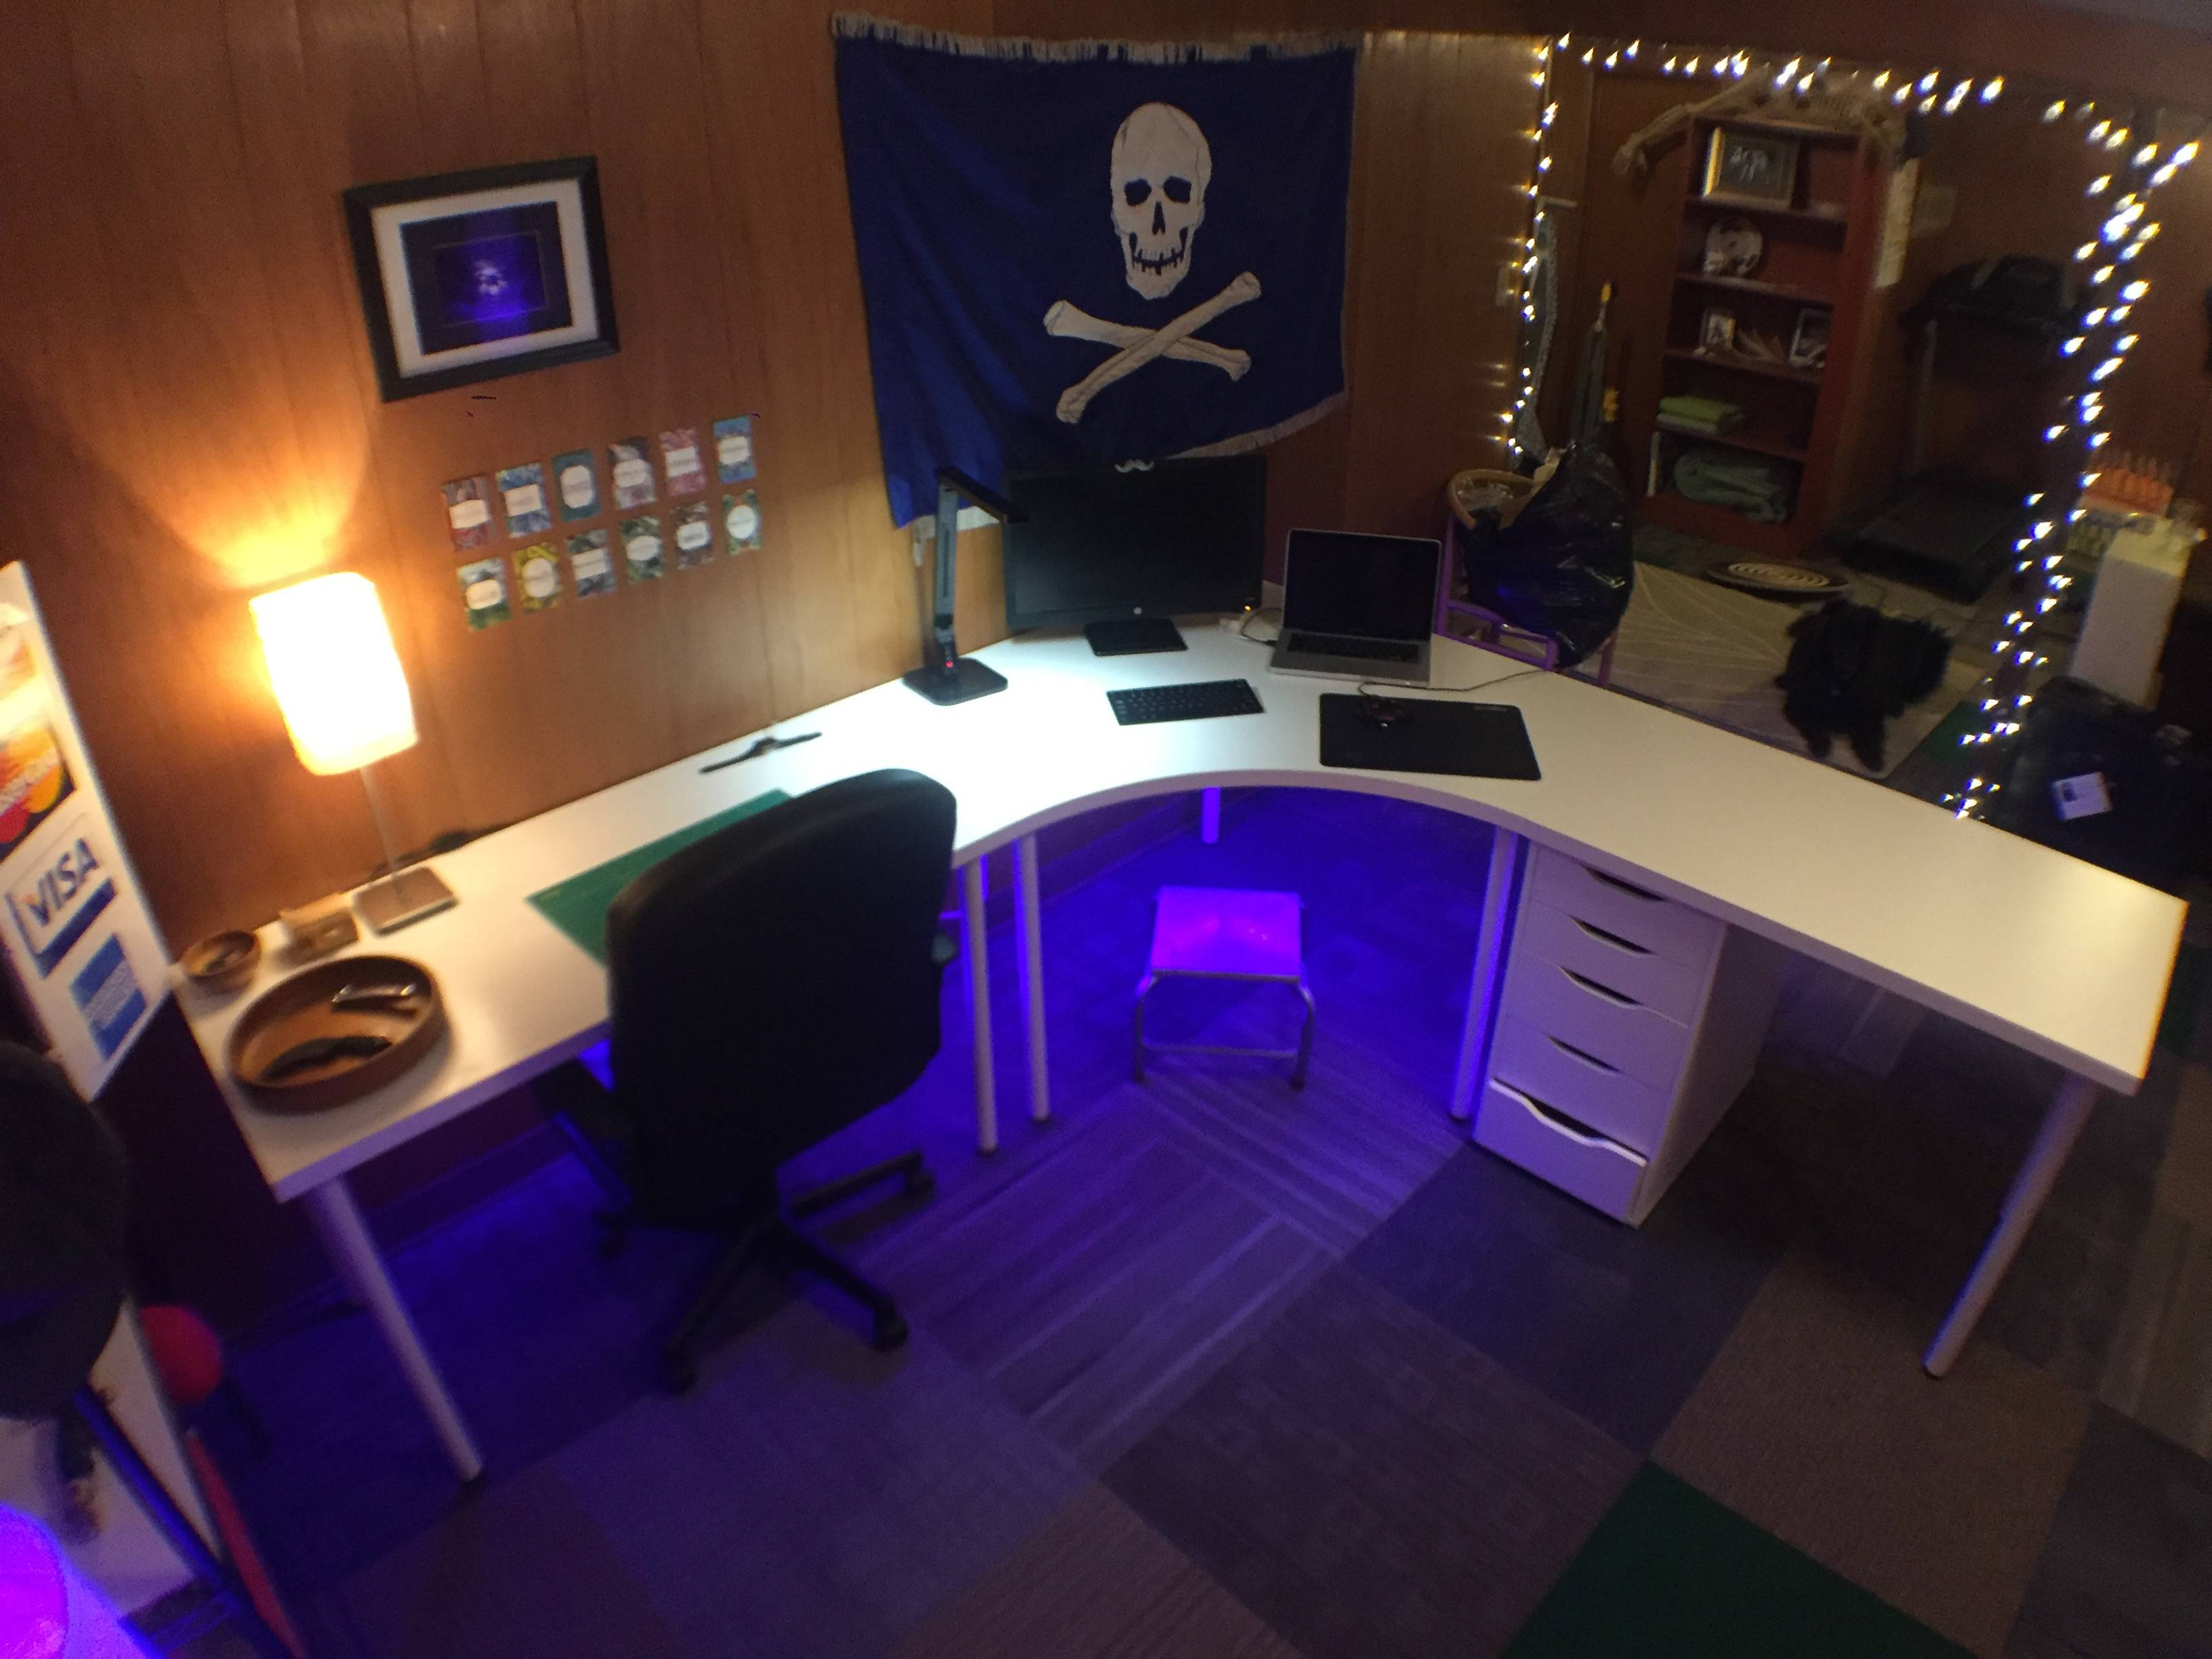Chair (Generic): (587, 765, 960, 1392)
Desk (Generic): (174, 605, 2212, 1208)
Footrest: (1116, 885, 1320, 1098)
Keyboard (Generic): (1103, 676, 1266, 727)
Lamp (Desk): (251, 570, 469, 915), (899, 457, 1028, 716)
Laptop (OSX): (1271, 528, 1449, 678)
Monitor (Landscape): (1007, 451, 1273, 634)
Monitor (Laptop): (1284, 528, 1437, 641)
Mouse (Generic): (1341, 685, 1414, 737)
Mousepad (Generic): (1317, 683, 1543, 784)
Storage Drawer: (1472, 842, 1726, 1230)
